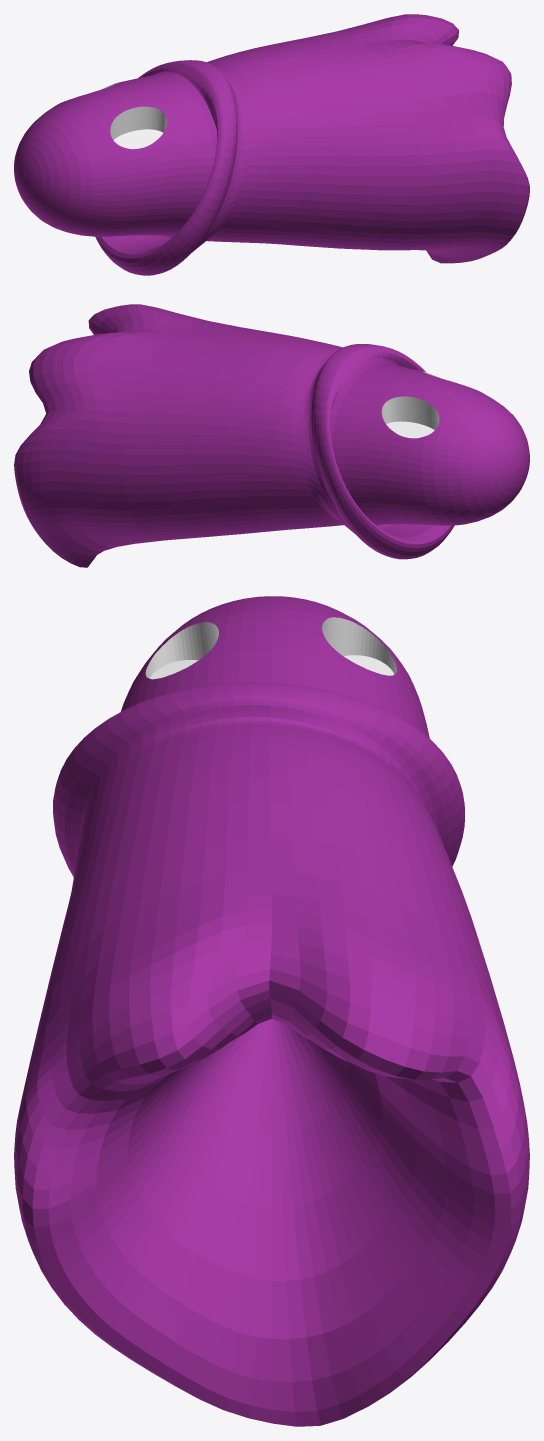
The model's file is Ghost2.fbx.
The picture shows the model from 3 angles, top to bottom: view 1: azimuth 30°, elevation 25°; view 2: azimuth 150°, elevation 25°; view 3: azimuth 270°, elevation 25°; orthographic projection. The views are drawn at different scales.
Visible parts, largest first — view 1: Ghost.002; view 2: Ghost.002; view 3: Ghost.002.
Boxes of the visible parts, bbox=[...] form: Ghost.002: bbox=[14, 14, 529, 275]; Ghost.002: bbox=[14, 304, 529, 567]; Ghost.002: bbox=[14, 596, 529, 1426].
Size of the model in its own units: 53.01 by 48.79 by 97.11.
2 materials, 2 textured.
